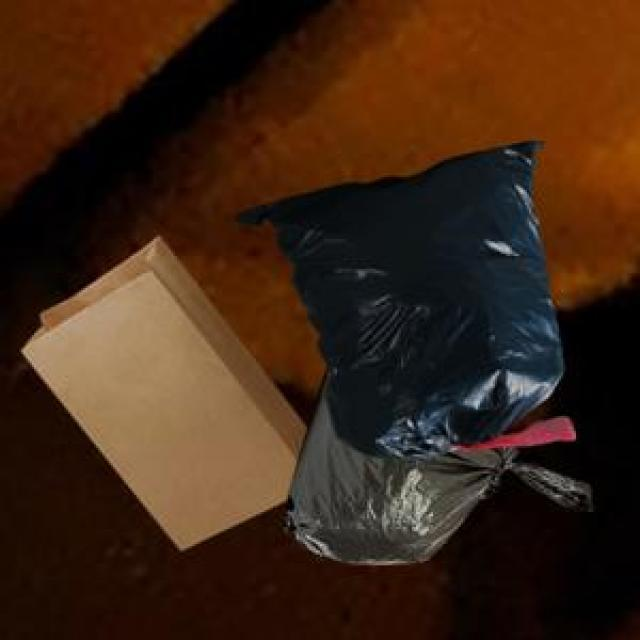miscellaneous trash: (230, 137, 572, 459), (282, 363, 589, 559)
paper: (17, 233, 303, 546)
